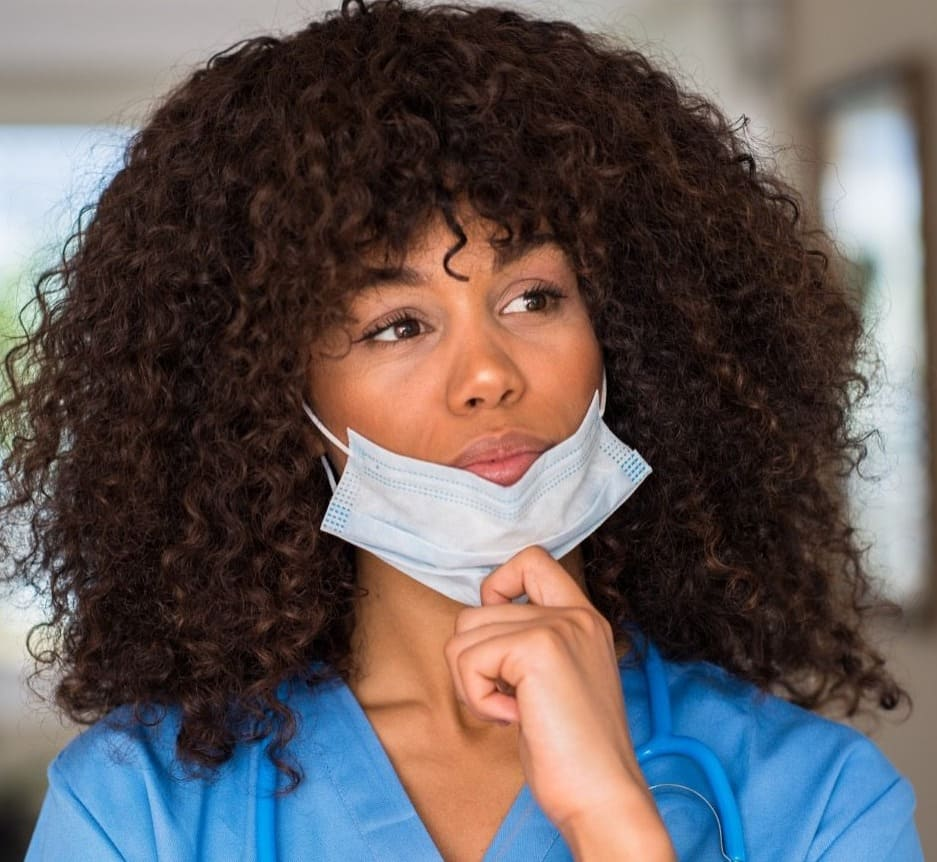with_incorrect_mask: (326, 199, 610, 602)
